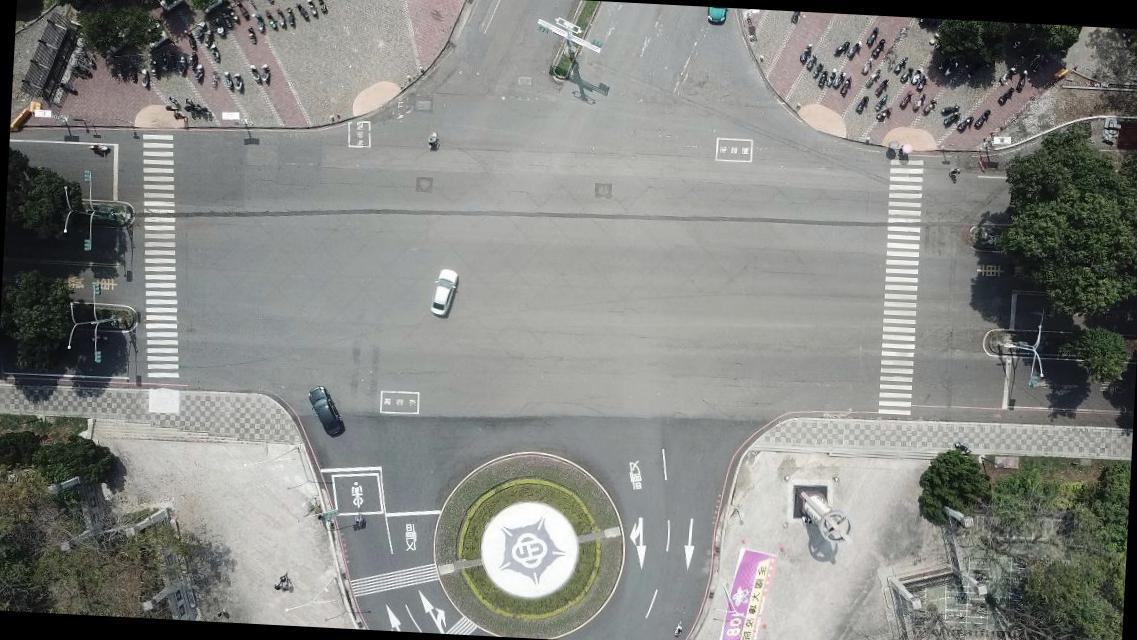vehicle: (304, 384, 350, 438), (428, 266, 460, 319), (702, 7, 725, 26)
